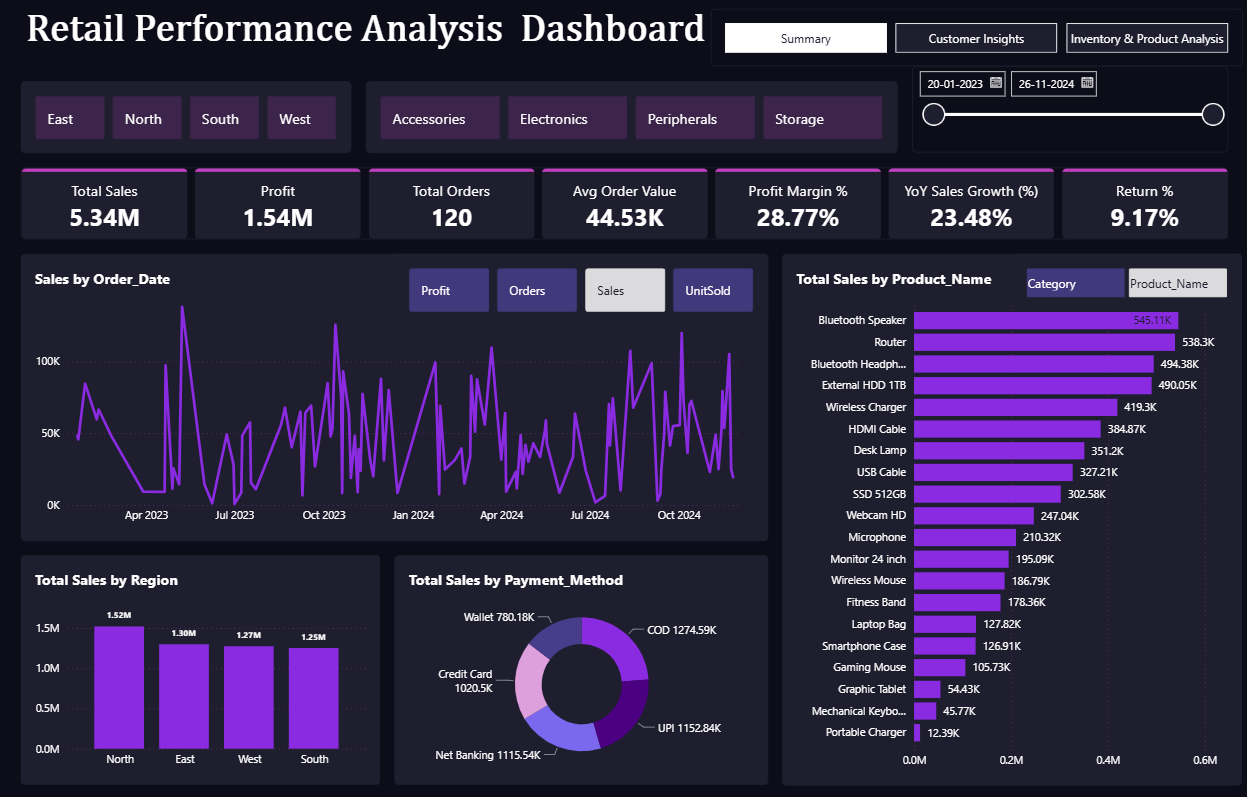

The dashboard page shown, as its layout file describes it:
{"tool":"powerbi","page":{"name":"Summary","canvas":[1400,900],"ordinal":0},"visuals":[{"type":"cardVisual","fields":{"Data":["Measures (2).Total Sales","Measures (2).Profit","Measures (2).Total Orders","Measures (2).Avg Order Value","Measures (2).Profit Margin %","Measures (2).YoY Sales Growth (%)","Measures (2).Return %"]},"box":[32,192,1344,80],"z":0},{"type":"lineChart","fields":{"Y":["Measures (2).Total Sales"],"Category":["orders.Order_Date"]},"box":[32,288,832,320],"z":1000},{"type":"clusteredColumnChart","title":"Total Sales by Region","fields":{"Y":["Measures (2).Total Sales"],"Category":["regions.Region_Name"]},"box":[32,624,400,256],"z":2000},{"type":"barChart","fields":{"Category":["products.Product_Name"],"Y":["Measures (2).Total Sales"]},"box":[880,288,512,592],"z":3000},{"type":"donutChart","fields":{"Y":["Measures (2).Total Sales"],"Category":["orders.Payment_Method"]},"box":[448,624,416,256],"z":4000},{"type":"advancedSlicerVisual","fields":{"Values":["products.Category"]},"box":[416,96,592,80],"z":5000},{"type":"slicer","fields":{"Values":["orders.Order_Date"]},"box":[1024,80,352,96],"z":6000},{"type":"advancedSlicerVisual","fields":{"Values":["regions.Region_Name"]},"box":[32,96,368,80],"z":7000},{"type":"pageNavigator","box":[800,16,592,64],"z":8000},{"type":"textbox","box":[32,16,768,80],"z":9000},{"type":"advancedSlicerVisual","fields":{"Values":["Select Measures.Select Measures"]},"box":[448,288,416,64],"z":10000},{"type":"advancedSlicerVisual","fields":{"Values":["List.List"]},"box":[1136,288,256,64],"z":11000}]}

Visuals, with their boxes in screenshot pixels (x1, y1, x2, y2), scaled from the page's 1400x900 canvas onto the 1247x797 screenshot:
cardVisual - Measures (2).Total Sales x Measures (2).Profit: [29, 170, 1226, 241]
lineChart - Measures (2).Total Sales x orders.Order_Date: [29, 255, 770, 538]
"Total Sales by Region" clusteredColumnChart: [29, 553, 385, 779]
barChart - products.Product_Name x Measures (2).Total Sales: [784, 255, 1240, 779]
donutChart - Measures (2).Total Sales x orders.Payment_Method: [399, 553, 770, 779]
advancedSlicerVisual - products.Category: [371, 85, 898, 156]
slicer - orders.Order_Date: [912, 71, 1226, 156]
advancedSlicerVisual - regions.Region_Name: [29, 85, 356, 156]
pageNavigator: [713, 14, 1240, 71]
textbox: [29, 14, 713, 85]
advancedSlicerVisual - Select Measures.Select Measures: [399, 255, 770, 312]
advancedSlicerVisual - List.List: [1012, 255, 1240, 312]
